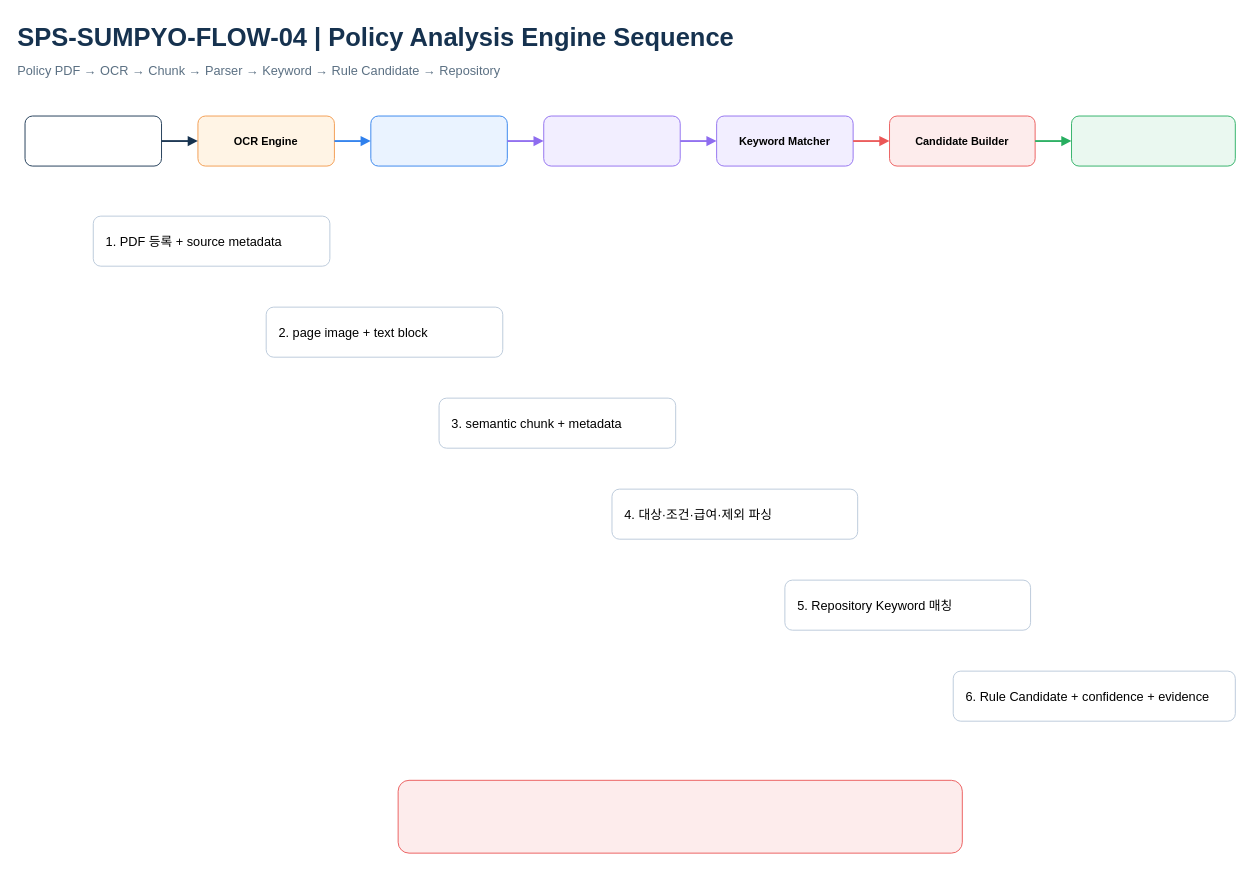
The diagram is 1251 pixels wide and 869 high, and some of its shapes have lost their labels. Each missing label, with the centre of its shape:
"Chunk Engine" belongs at point (438, 140).
"Policy Parser" belongs at point (611, 140).
"Policy PDF" belongs at point (93, 140).
"Rule Repository" belongs at point (1153, 140).
"검토 Gate\n자동 등록 금지 · 승인된 Candidate만 rl_rule 계열로 승격" belongs at point (679, 816).
